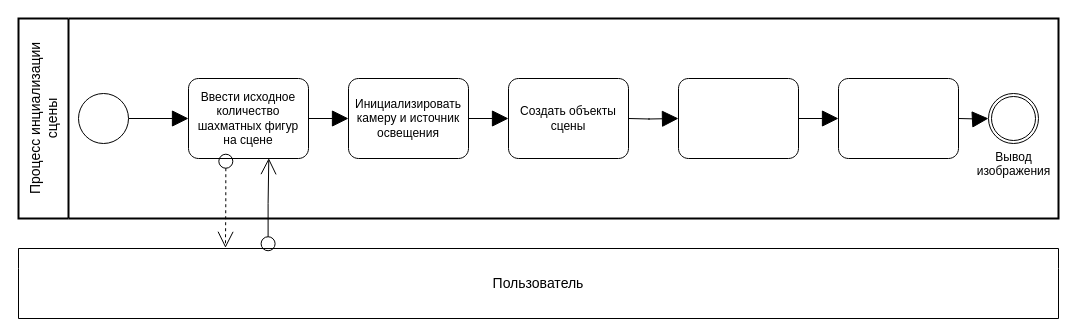
Some shapes in this 1076 by 336 pixel diagram are drawn without their labels. Here are the shapes that lost their labels. From the top down, the box of each, then its label:
(78, 92, 128, 144): Запуск ПО
(678, 78, 798, 158): Построить KD-дерево
(838, 78, 958, 158): Выполнить обратную трассировку лучей
